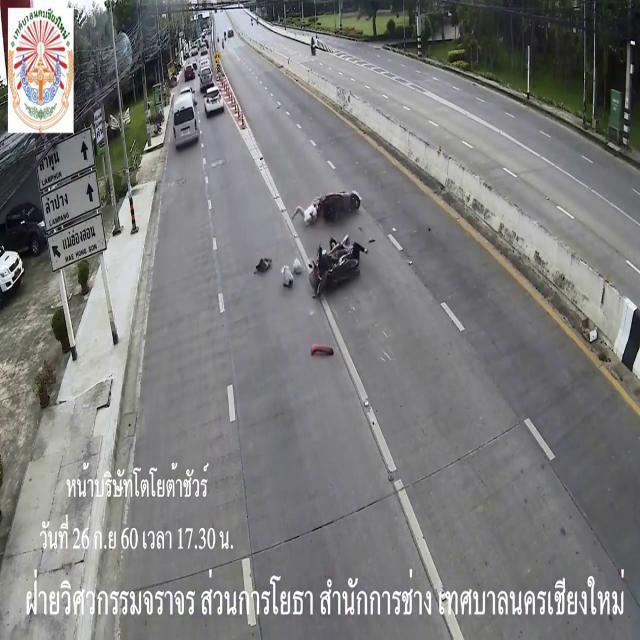accident: (256, 188, 378, 306)
non-accident: (171, 87, 225, 153), (182, 61, 214, 91)
